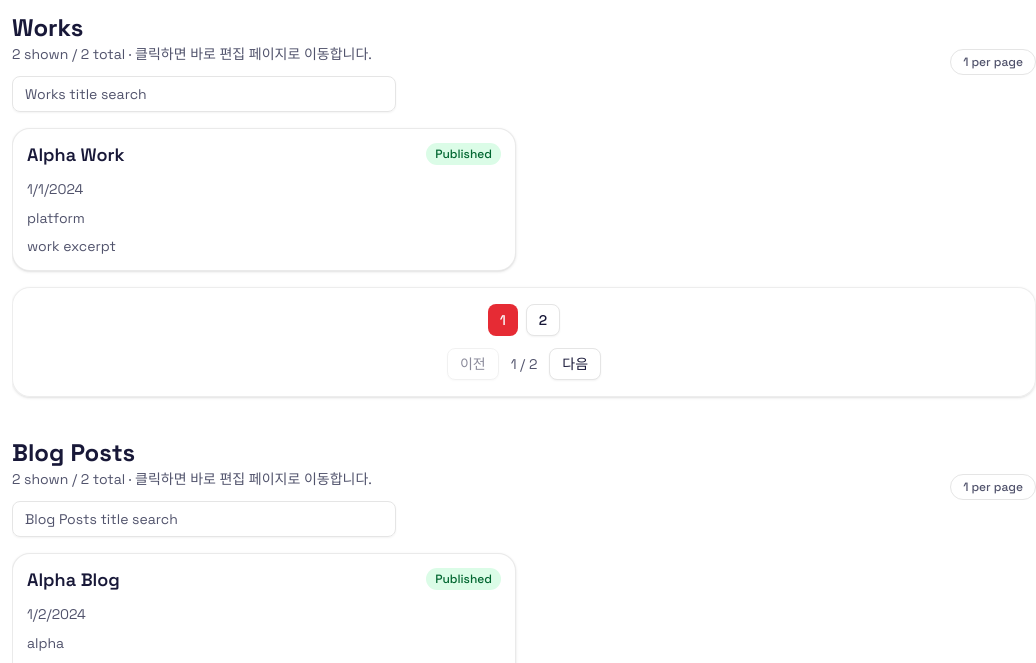
AdminDashboardCollections › filters works and blog posts by title independently
Type "beta" into the field labelled "Works title search".
click(204, 94); type("beta")  # box [12,76,396,112]
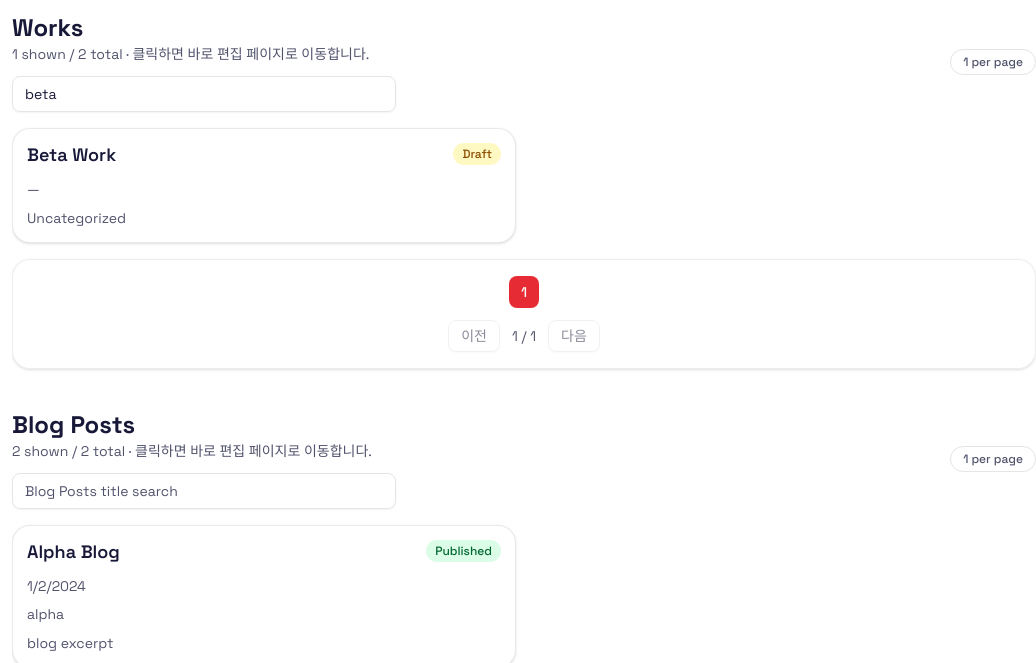
Check: the heading "Beta Work" is shown, box [27,143,116,167]
Check: the link "Alpha Work" is gone
Type "beta" into the field labelled "Blog Posts title search".
click(204, 491); type("beta")  # box [12,473,396,509]
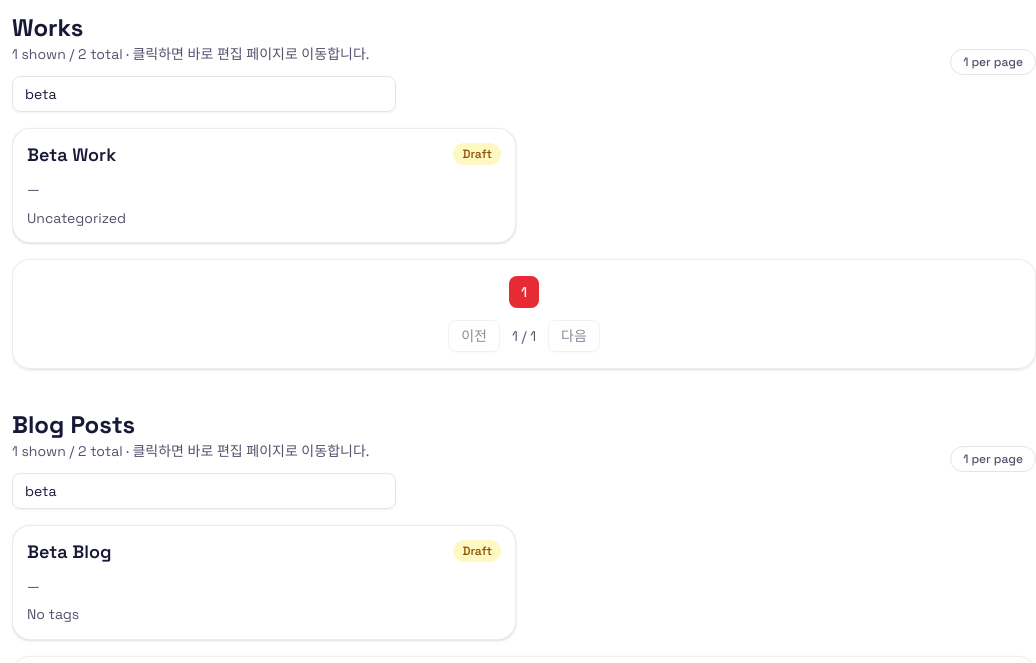
Check: the heading "Beta Blog" is shown, box [27,540,112,564]
Check: the link "Alpha Blog" is gone
